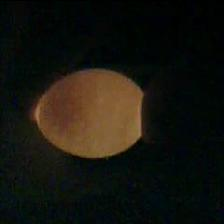infertile: (31, 66, 145, 160)
